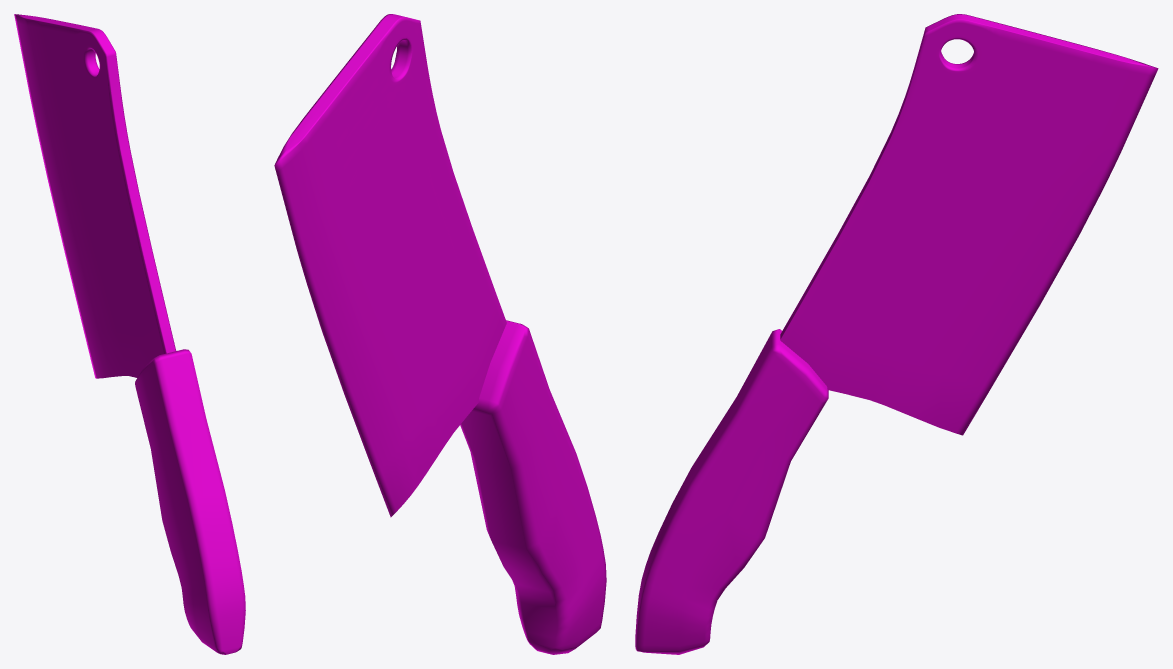
File: object_butcherskinfe_blockout.fbx
3 renders of one model, left to right at view 1: azimuth 30°, elevation 25°; view 2: azimuth 150°, elevation 25°; view 3: azimuth 270°, elevation 25°, orthographic. The views are drawn at different scales.
Parts seen in each view (by area): view 1: butchers_kinfe_blade_0001, object_butcherskinfe_blockout; view 2: butchers_kinfe_blade_0001, object_butcherskinfe_blockout; view 3: butchers_kinfe_blade_0001, object_butcherskinfe_blockout.
Part boxes in pixels (bbox=[...]): butchers_kinfe_blade_0001: bbox=[14, 14, 176, 378]; object_butcherskinfe_blockout: bbox=[135, 349, 245, 654]; butchers_kinfe_blade_0001: bbox=[274, 14, 506, 517]; object_butcherskinfe_blockout: bbox=[460, 320, 606, 654]; butchers_kinfe_blade_0001: bbox=[780, 14, 1158, 435]; object_butcherskinfe_blockout: bbox=[635, 329, 828, 654].
Bounding box in the file's own units: 1.73 × 23.34 × 17.44.
